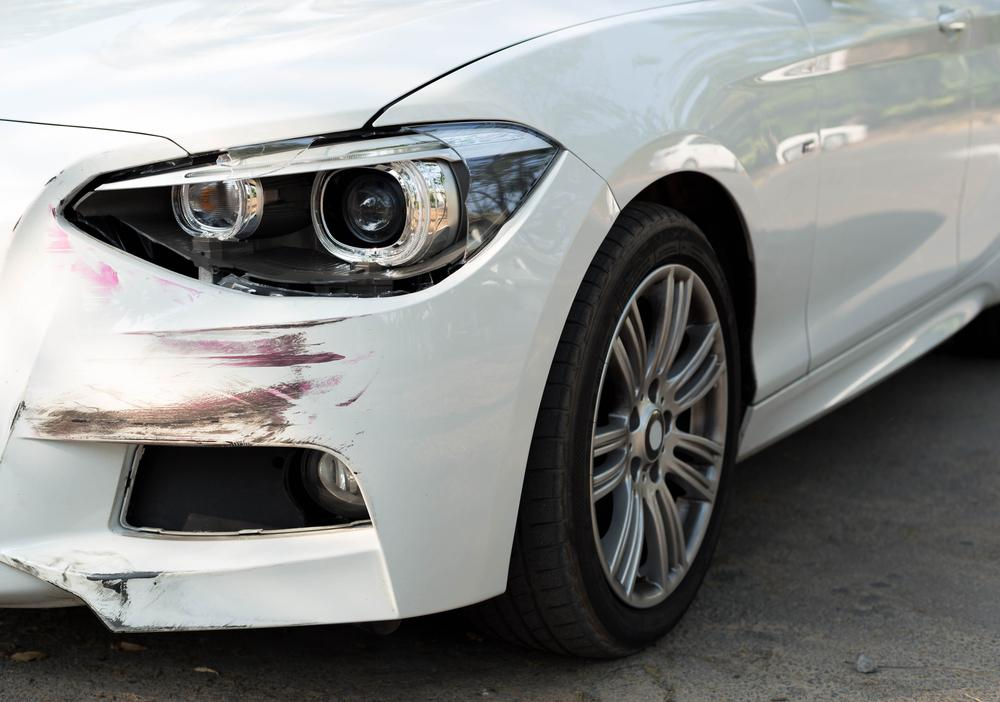lamp broken: (63, 121, 564, 298)
scratch: (11, 235, 371, 451), (0, 551, 261, 632)
